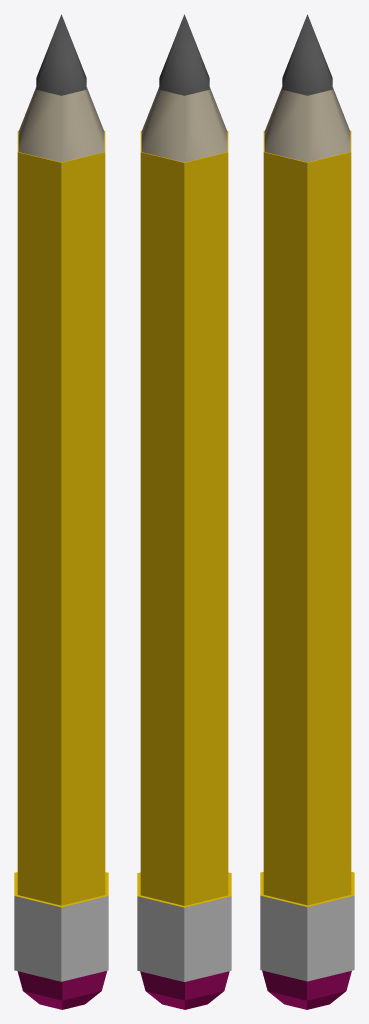
The model's file is Obj_pencil 1.fbx.
The picture shows the model from 3 angles, left to right: view 1: azimuth 90°, elevation 25°; view 2: azimuth 150°, elevation 25°; view 3: azimuth 330°, elevation 25°; orthographic projection.
Visible parts, largest first — view 1: pCylinder2; view 2: pCylinder2; view 3: pCylinder2.
Part boxes in pixels (x1,y1,x2,y2): pCylinder2: (14, 14, 108, 1009); pCylinder2: (137, 14, 231, 1009); pCylinder2: (260, 14, 354, 1009).
Size of the model in its own units: 2.21 by 22.15 by 1.91.
